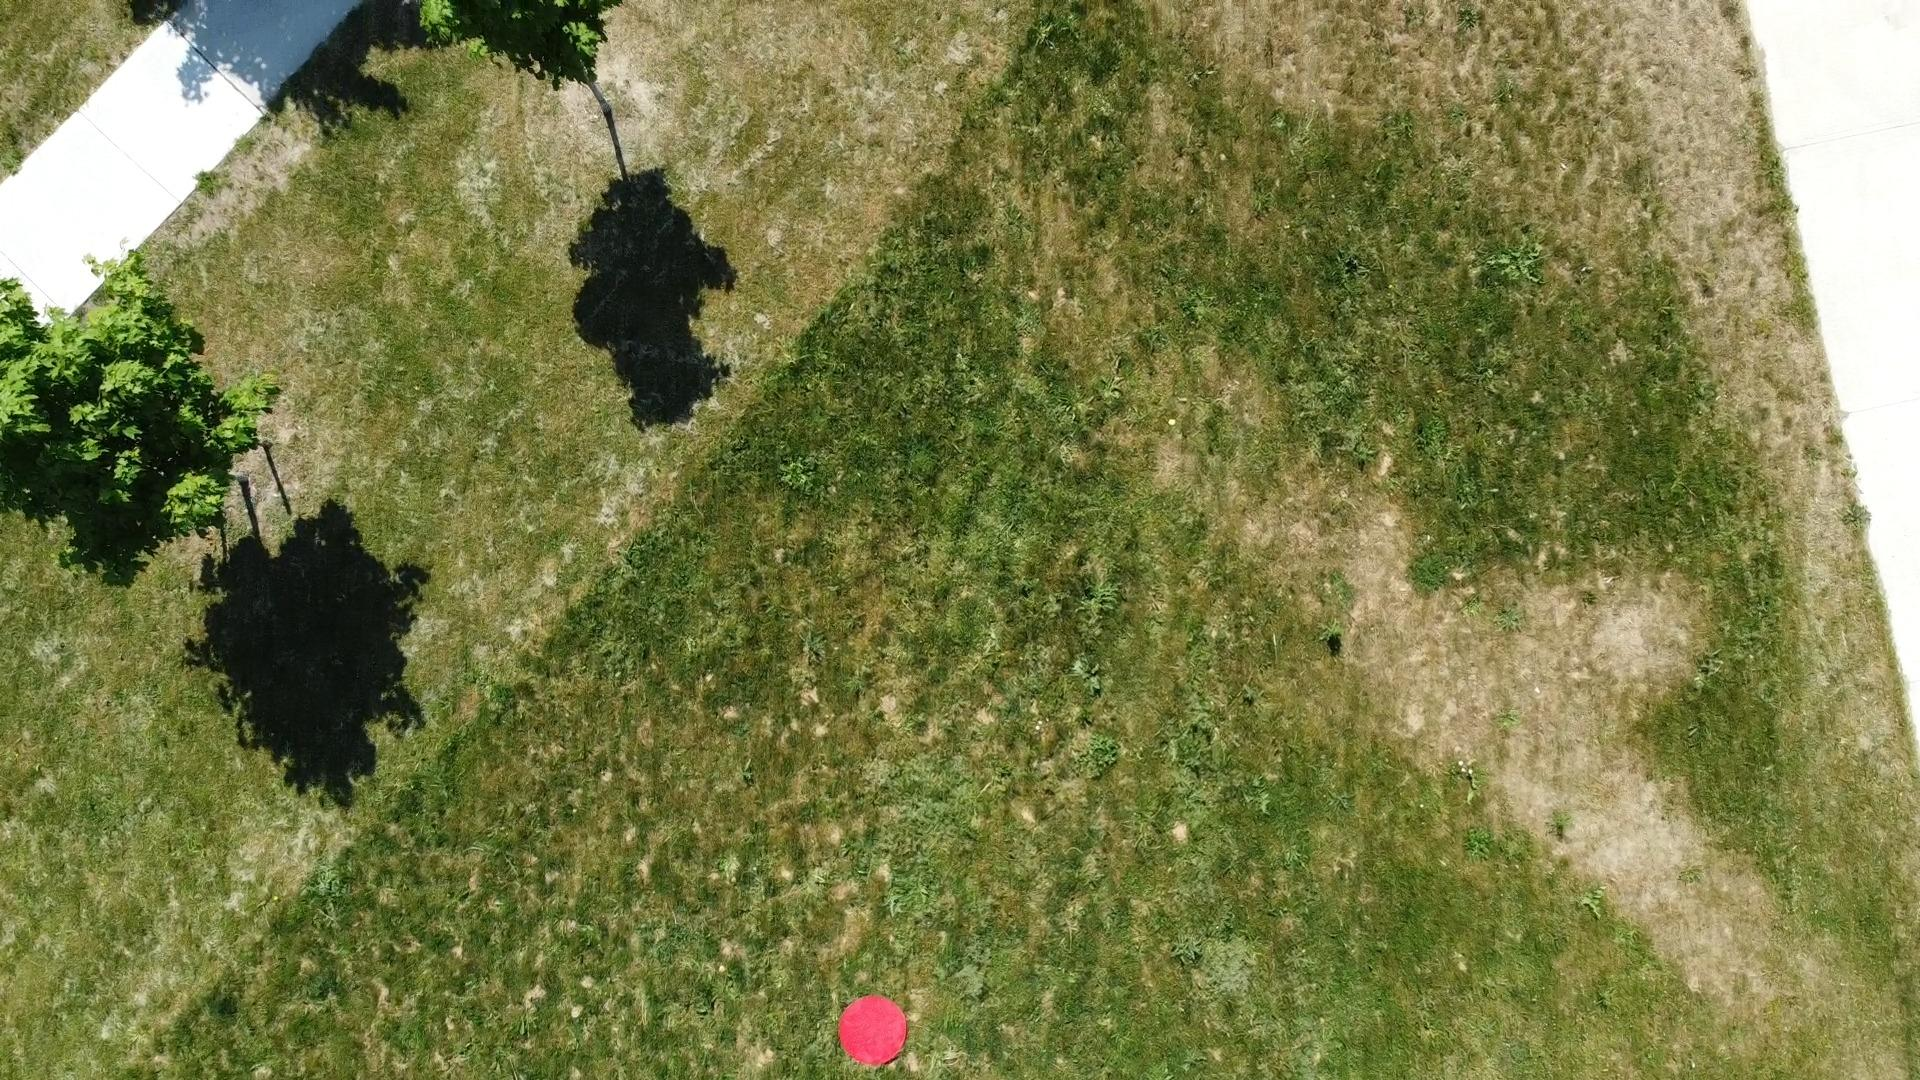Red: (835, 992, 910, 1068)
